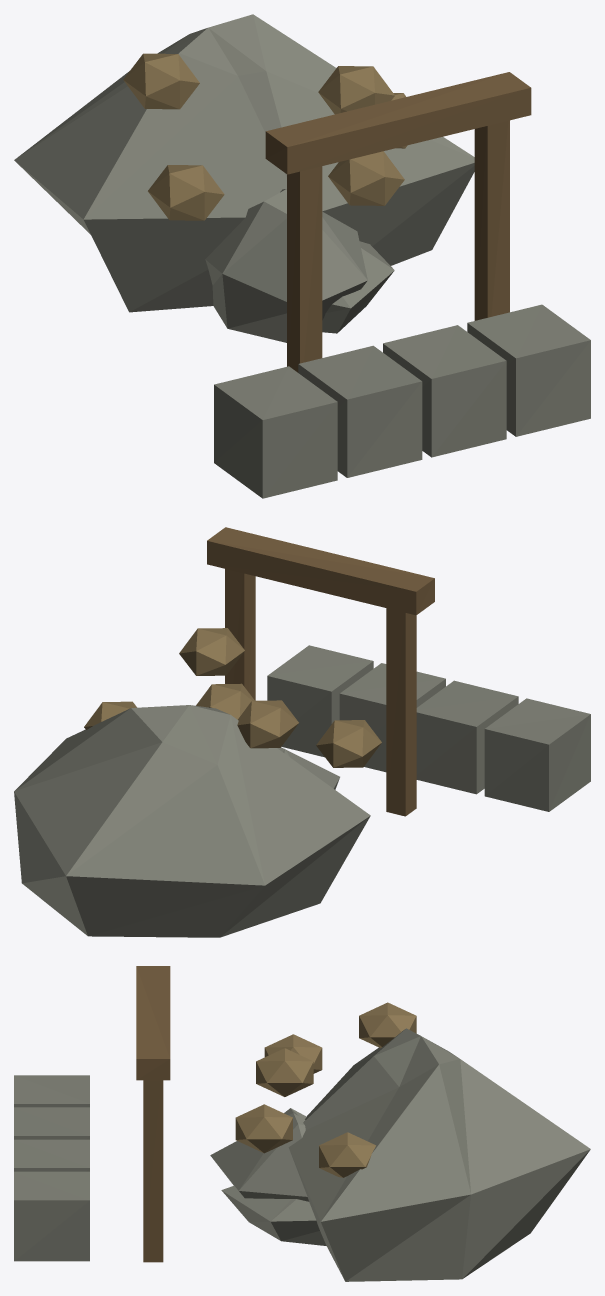
File: stone_quarry-far.glb
3 renders of one model, top to bottom at view 1: azimuth 30°, elevation 25°; view 2: azimuth 150°, elevation 25°; view 3: azimuth 270°, elevation 25°, orthographic. The views are drawn at different scales.
Parts seen in each view (by area): view 1: world-scenery/stone_quarry-far; view 2: world-scenery/stone_quarry-far; view 3: world-scenery/stone_quarry-far.
Boxes of the visible parts, x1,y1,x2,y2 form: world-scenery/stone_quarry-far: (14, 14, 590, 498); world-scenery/stone_quarry-far: (14, 527, 590, 937); world-scenery/stone_quarry-far: (14, 966, 590, 1281).
Bounding box in the file's own units: 2.21 × 1.37 × 3.42.
